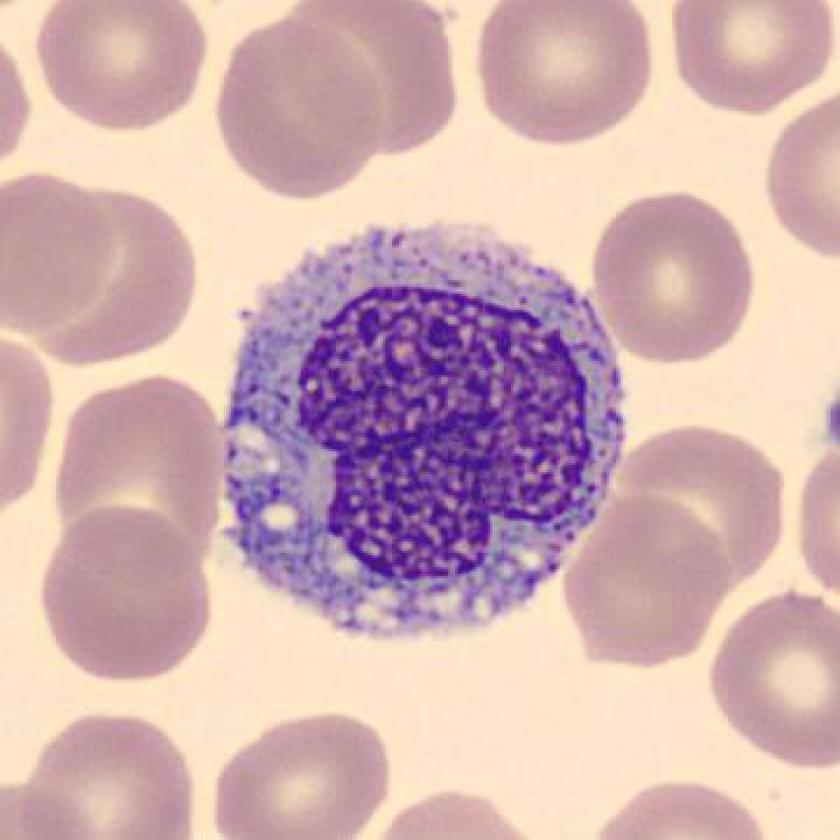monocyte: (197, 198, 650, 663)
